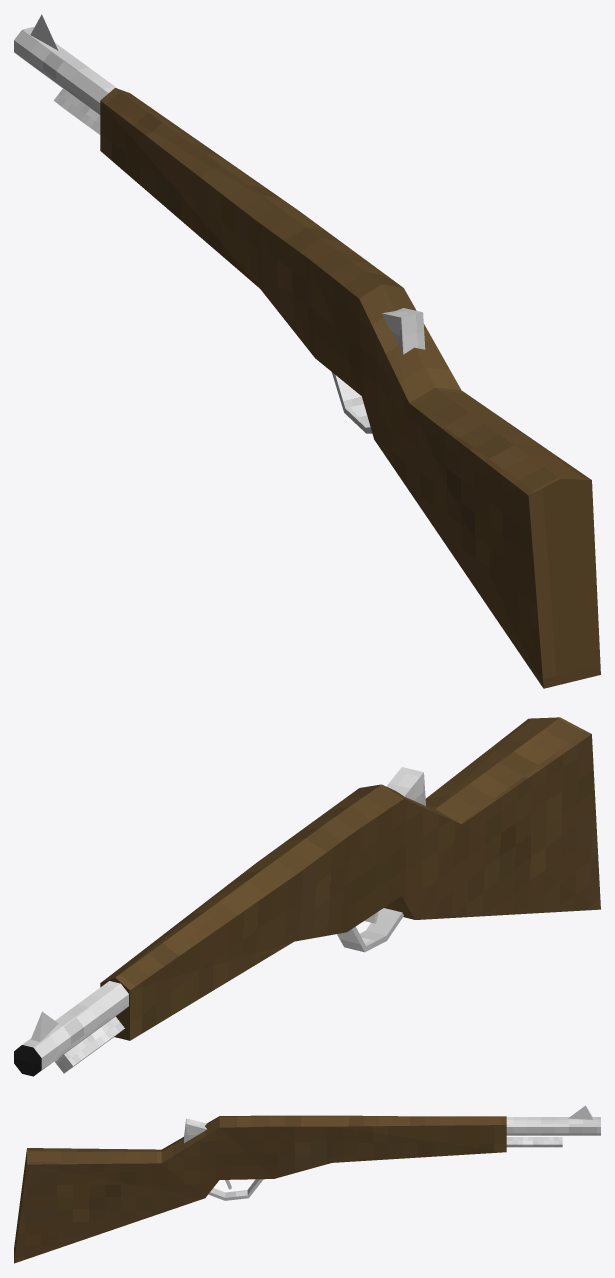
The model's file is Musket.glb.
3 views of the same model, one above another, from view 1: azimuth 30°, elevation 25°; view 2: azimuth 150°, elevation 25°; view 3: azimuth 270°, elevation 25° (orthographic). The views are drawn at different scales.
Visible parts, largest first — view 1: Musket, Hammer; view 2: Musket, Hammer; view 3: Musket, Hammer.
Boxes of the visible parts, x1,y1,x2,y2 form: Musket: (14, 14, 600, 688); Hammer: (381, 308, 425, 354); Musket: (14, 717, 600, 1076); Hammer: (386, 767, 425, 805); Musket: (14, 1105, 600, 1263); Hammer: (184, 1118, 206, 1142).
Bounding box in the file's own units: 0.0943 × 0.3975 × 1.4.
Materials: 1 (1 with a texture image).
